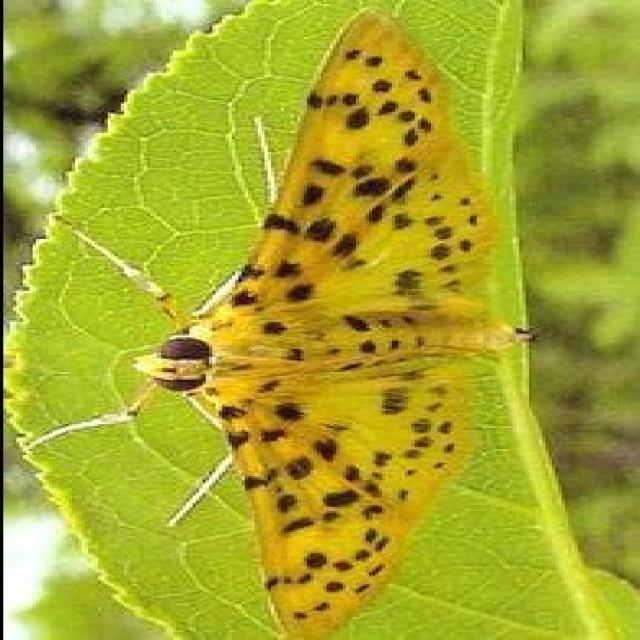peach borer: (130, 5, 532, 640)
